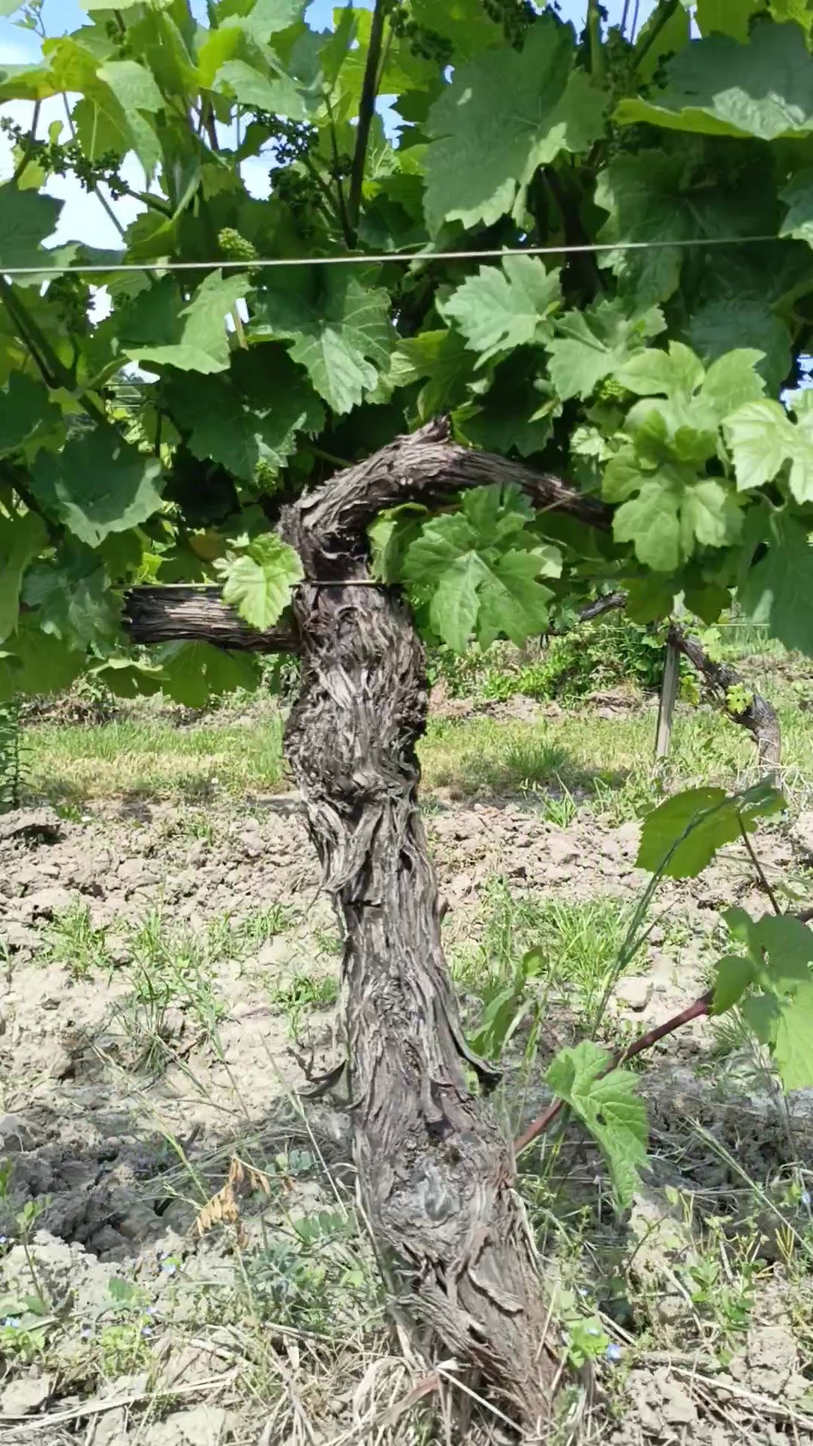vine_trunk: (282, 419, 558, 1426)
